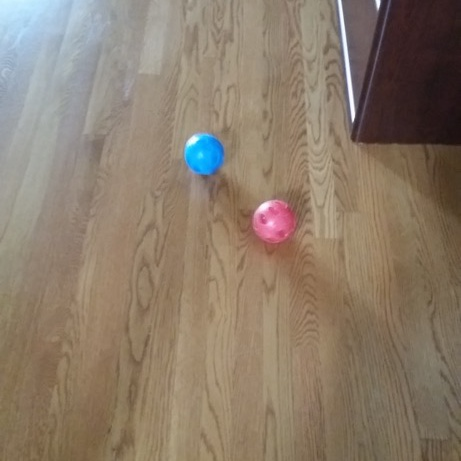blueball: (181, 129, 227, 178)
redball: (250, 197, 298, 247)
